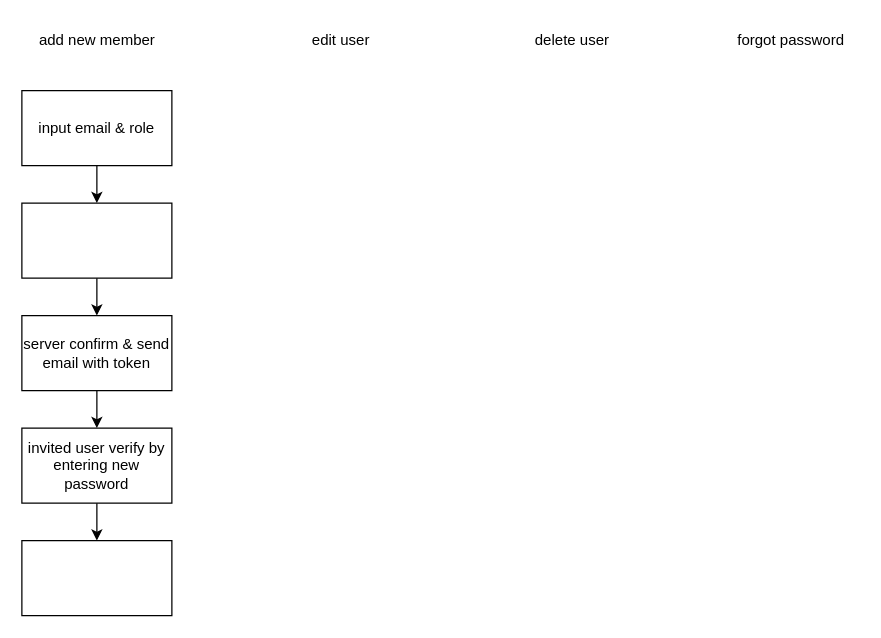
This 881x638 diagram has some shape labels left out. Here are the shapes that lost their labels. From the top down, the centre of each, then its label:
the point at 96,240: send to server
the point at 96,577: server confirm & create acc for them
